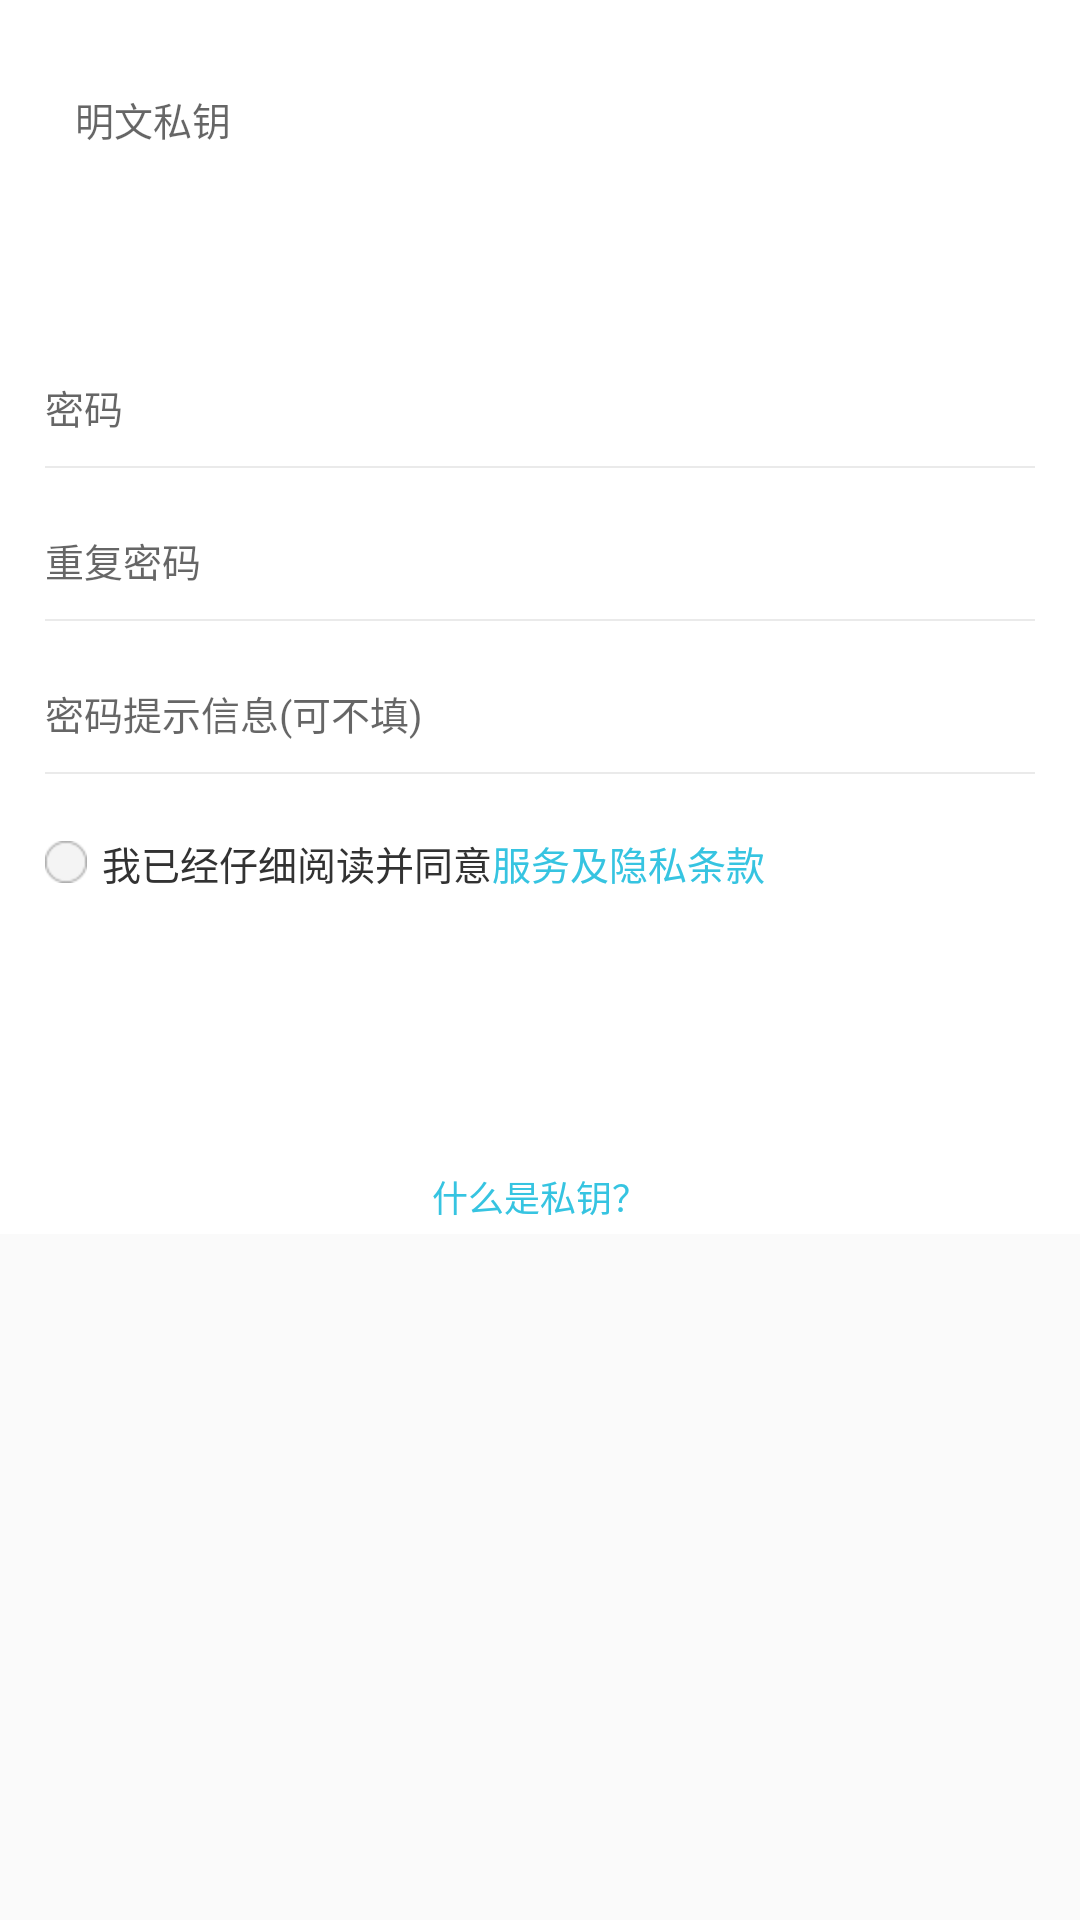

Locate icon controls on the screen. Image size 1080 × 1920, boxes as bbox=(x1, y1, x2, y2).
agreement circle cb: bbox=(45, 841, 87, 883)
